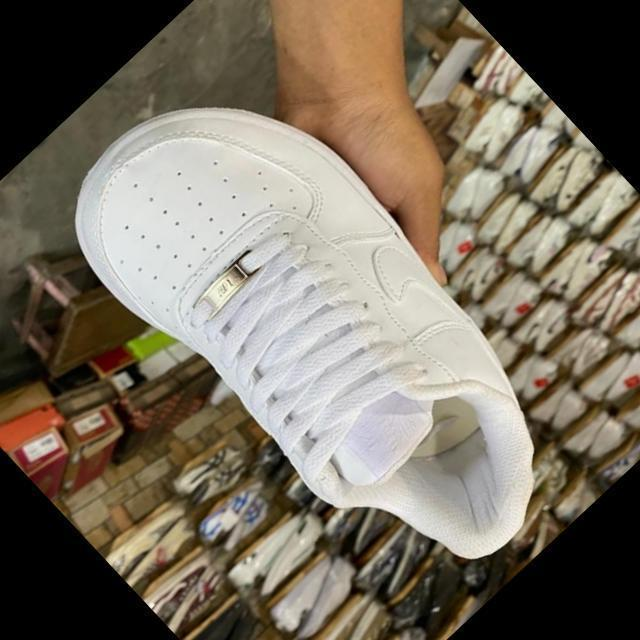nike fake air force: (37, 31, 615, 624)
